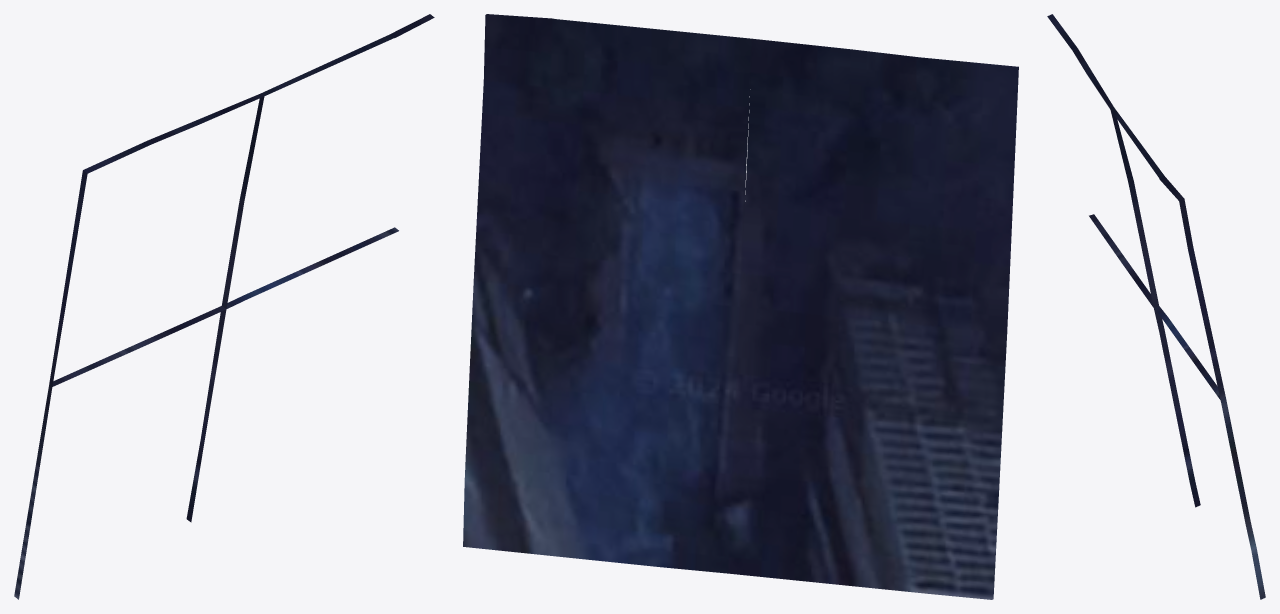
3 renders of one model, left to right at view 1: azimuth 30°, elevation 25°; view 2: azimuth 150°, elevation 25°; view 3: azimuth 270°, elevation 25°, orthographic. The views are drawn at different scales.
Size of the model in its own units: 38.15 by 37.41 by 18.03.
1 material, 1 textured.
